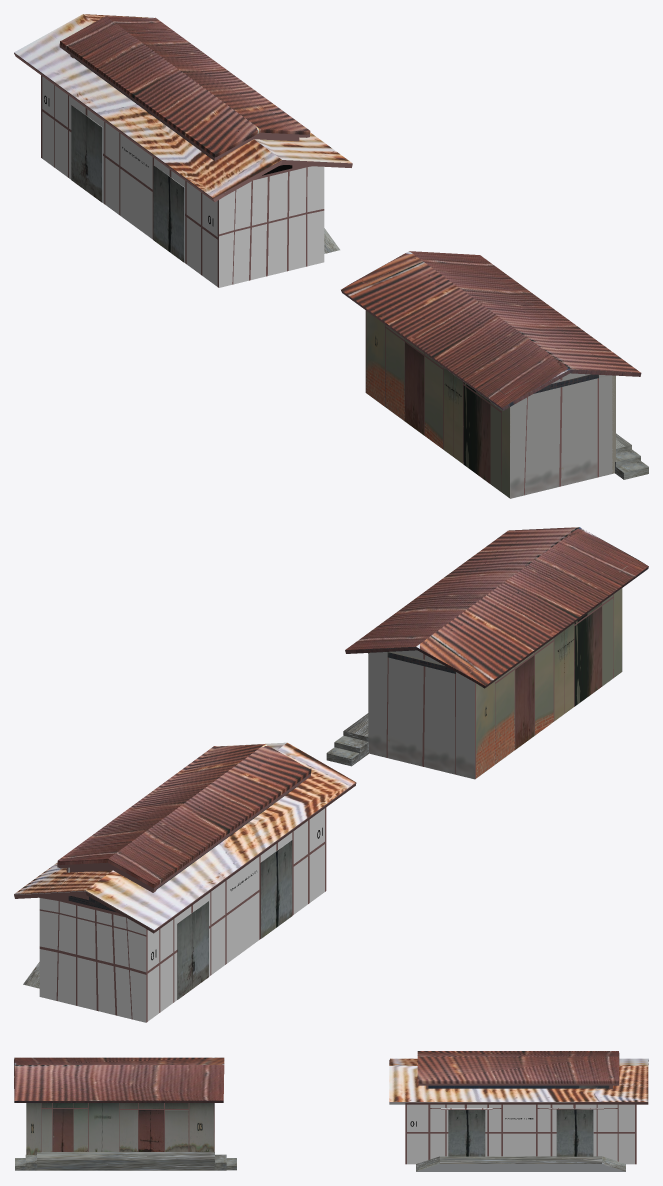
The model's file is gedungpelindo.fbx.
The picture shows the model from 3 angles, top to bottom: view 1: azimuth 30°, elevation 25°; view 2: azimuth 150°, elevation 25°; view 3: azimuth 270°, elevation 25°; orthographic projection. The views are drawn at different scales.
Visible parts, largest first — view 1: Cube.011, Cube, Cube.006, Cube.007; view 2: Cube.011, Cube, Cube.007, Cube.006; view 3: Cube.011, Cube, Cube.001, Cube.010, Cube.009, Cube.008, Cube.002, Cube.004.
Part boxes in pixels (box(x1,y1,x2,y2)): Cube.011: box(14, 14, 352, 287); Cube: box(341, 251, 641, 498); Cube.006: box(71, 105, 102, 202); Cube.007: box(153, 165, 184, 262); Cube.011: box(14, 742, 356, 1022); Cube: box(345, 527, 648, 779); Cube.007: box(260, 840, 292, 938); Cube.006: box(177, 901, 208, 999); Cube.011: box(389, 1051, 648, 1164); Cube: box(14, 1057, 224, 1154); Cube.001: box(37, 1152, 214, 1170); Cube.010: box(416, 1156, 625, 1171); Cube.009: box(556, 1109, 593, 1156); Cube.008: box(448, 1110, 485, 1156); Cube.002: box(214, 1154, 226, 1170); Cube.004: box(25, 1155, 37, 1170).
Size of the model in its own units: 463 by 418 by 2659.
Materials: 27 (21 with a texture image).
